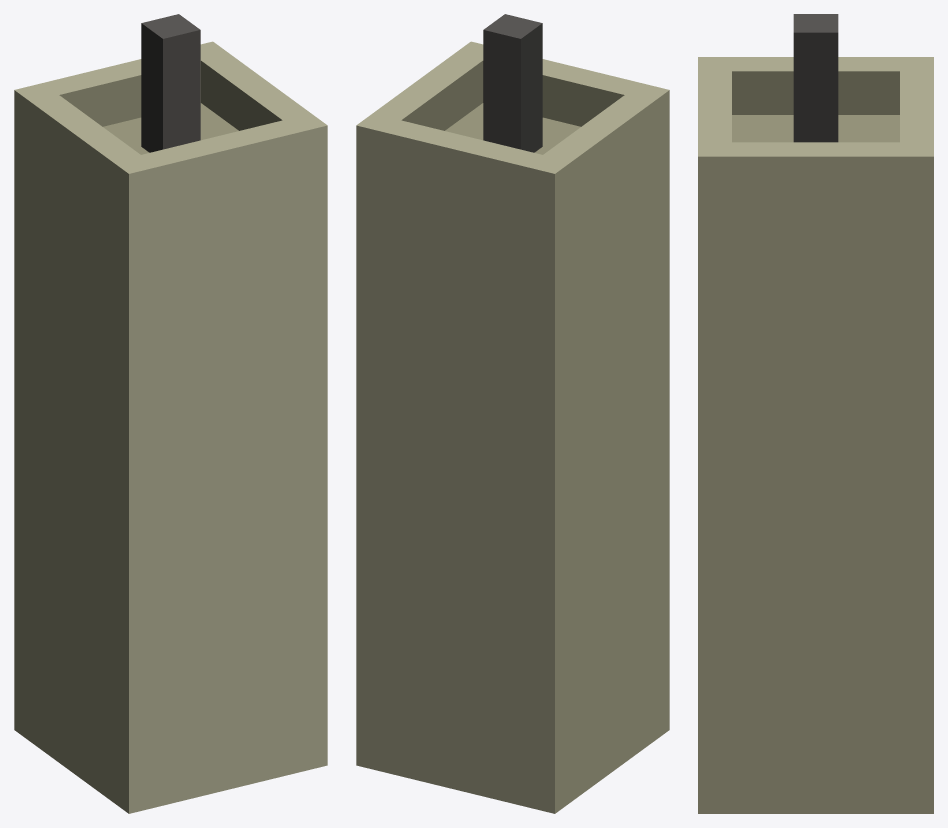
File: SD_Prop_Candle_01.fbx
3 views of the same model, side by side, from view 1: azimuth 30°, elevation 25°; view 2: azimuth 150°, elevation 25°; view 3: azimuth 270°, elevation 25° (orthographic). The views are drawn at different scales.
Parts seen in each view (by area): view 1: SD_Prop_Candle_01; view 2: SD_Prop_Candle_01; view 3: SD_Prop_Candle_01.
Part boxes in pixels (x1=…): SD_Prop_Candle_01: x1=14, y1=14, x2=327, y2=813; SD_Prop_Candle_01: x1=356, y1=14, x2=669, y2=813; SD_Prop_Candle_01: x1=698, y1=14, x2=933, y2=813.
Size of the model in its own units: 0.1893 by 0.6563 by 0.1893.
